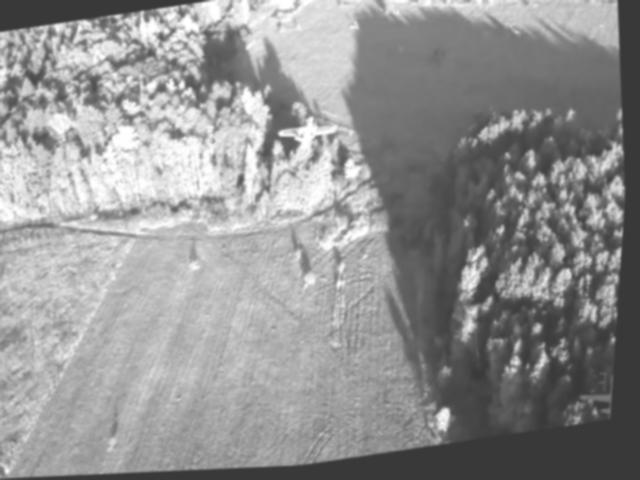hedef: (274, 112, 346, 157)
